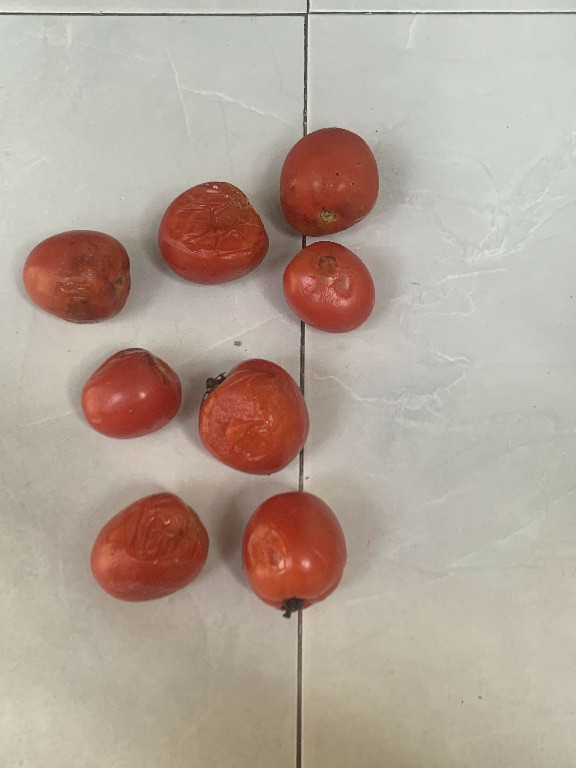NG: (86, 480, 215, 617), (195, 340, 319, 482), (234, 487, 352, 622), (150, 173, 268, 283), (276, 237, 391, 341), (66, 346, 182, 445), (26, 228, 132, 334)
OK: (273, 118, 394, 233)
